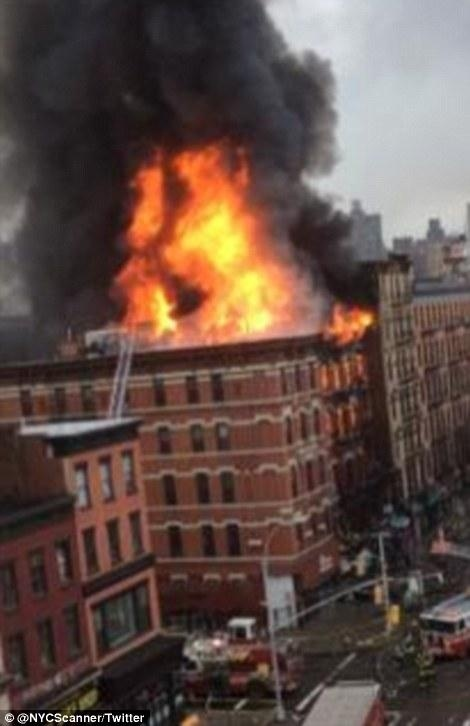fire: (115, 142, 298, 344), (324, 300, 377, 342)
